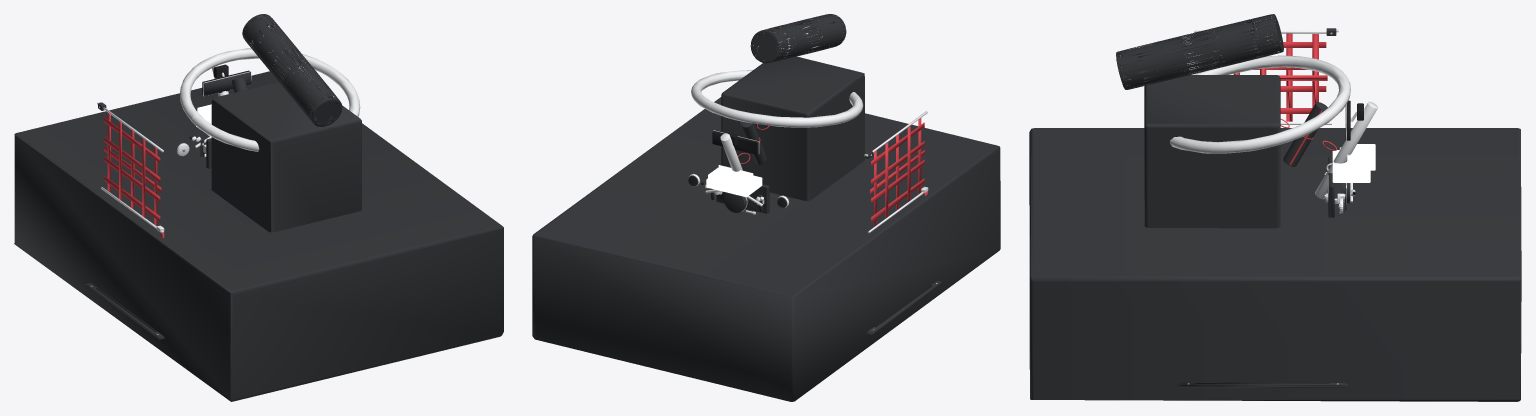
The model's file is cockpit_hypercar_halo.glb.
3 views of the same model, side by side, from view 1: azimuth 30°, elevation 25°; view 2: azimuth 150°, elevation 25°; view 3: azimuth 270°, elevation 25° (orthographic). The views are drawn at different scales.
Parts seen in each view (by area): view 1: Halo_Carbon_Tub_Monocoque, Halo_Driver_Bucket_Shell, Halo_Roof_Snorkel_Tube, Halo_Head_Protection_Loop, Halo_Electrochromic_Mirror_GlassPlate; view 2: Halo_Carbon_Tub_Monocoque, Halo_Driver_Bucket_Shell, Halo_Roof_Snorkel_Tube, Halo_Head_Protection_Loop, Halo_AR_HUD_Collimator_ApertureWell, Halo_Yoke_Plate, Halo_HUD_Housing, Halo_Electrochromic_Mirror_RearShell, Halo_Strut_Impact_Pad_SafetyFoam, Halo_Central_Strut_Front; view 3: Halo_Carbon_Tub_Monocoque, Halo_Driver_Bucket_Shell, Halo_Roof_Snorkel_Tube, Halo_Head_Protection_Loop, Halo_Central_Strut_Front, Halo_AR_HUD_Collimator_ApertureWell, Halo_Strut_Impact_Pad_SafetyFoam, Halo_HUD_Housing, Halo_Sill_R_MainPlate.
Part boxes in pixels (x1,y1,x2,y2): Halo_Carbon_Tub_Monocoque: (14,69,503,401); Halo_Driver_Bucket_Shell: (211,81,361,232); Halo_Roof_Snorkel_Tube: (242,14,342,126); Halo_Head_Protection_Loop: (180,48,360,151); Halo_Electrochromic_Mirror_GlassPlate: (204,72,251,95); Halo_Carbon_Tub_Monocoque: (532,97,1000,401); Halo_Driver_Bucket_Shell: (721,56,864,200); Halo_Roof_Snorkel_Tube: (750,14,846,63); Halo_Head_Protection_Loop: (691,70,863,127); Halo_AR_HUD_Collimator_ApertureWell: (708,166,752,189); Halo_Yoke_Plate: (716,184,769,213); Halo_HUD_Housing: (706,175,762,197); Halo_Electrochromic_Mirror_RearShell: (712,131,758,154); Halo_Strut_Impact_Pad_SafetyFoam: (740,121,766,164); Halo_Central_Strut_Front: (720,133,742,171); Halo_Carbon_Tub_Monocoque: (1029,128,1521,401); Halo_Driver_Bucket_Shell: (1144,75,1280,228); Halo_Roof_Snorkel_Tube: (1116,14,1283,89); Halo_Head_Protection_Loop: (1170,55,1350,153); Halo_Central_Strut_Front: (1315,101,1378,199); Halo_AR_HUD_Collimator_ApertureWell: (1348,144,1375,170); Halo_Strut_Impact_Pad_SafetyFoam: (1283,102,1327,166); Halo_HUD_Housing: (1332,150,1370,182); Halo_Sill_R_MainPlate: (1181,383,1345,385).
Bounding box in the file's own units: 1.47 × 1.36 × 1.95.
